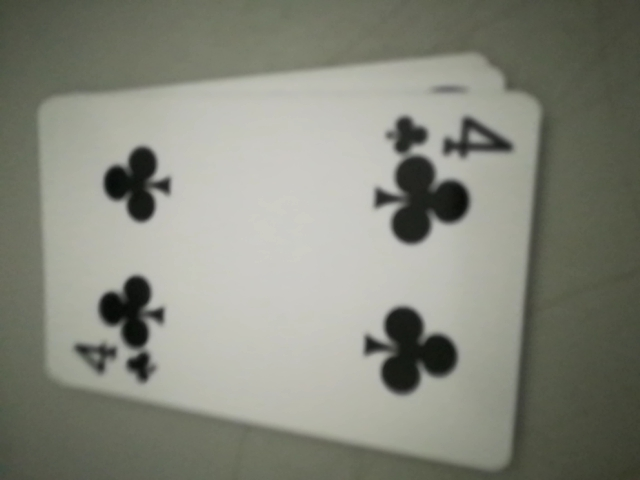mh 4: (382, 95, 516, 165), (62, 337, 160, 388)
